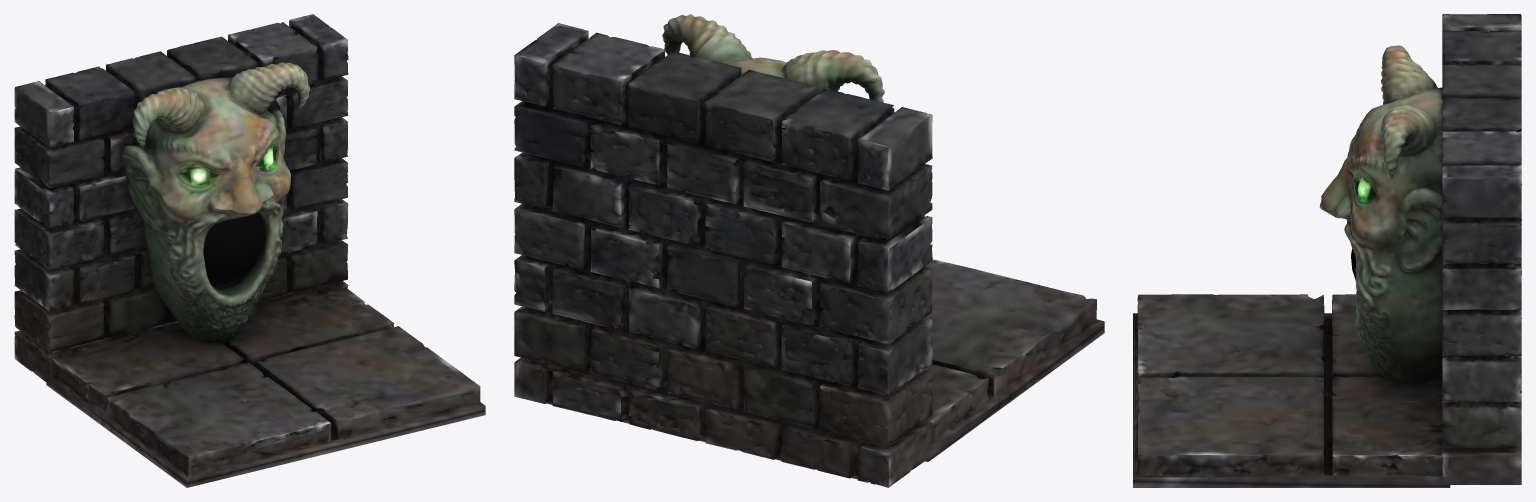
File: MZ4250 - Grinning Gargoyle Trapped.glb
The picture shows the model from 3 angles, left to right: view 1: azimuth 30°, elevation 25°; view 2: azimuth 150°, elevation 25°; view 3: azimuth 270°, elevation 25°; orthographic projection. The views are drawn at different scales.
Parts seen in each view (by area): view 1: Cut Stone Wall.2X2.Internal.001; view 2: Cut Stone Wall.2X2.Internal.001; view 3: Cut Stone Wall.2X2.Internal.001.
Boxes of the visible parts, x1,y1,x2,y2 form: Cut Stone Wall.2X2.Internal.001: (14, 14, 485, 487); Cut Stone Wall.2X2.Internal.001: (514, 14, 1104, 487); Cut Stone Wall.2X2.Internal.001: (1133, 14, 1521, 487).
Size of the model in its own units: 127 by 117 by 127.
Materials: 2 (2 with a texture image).
